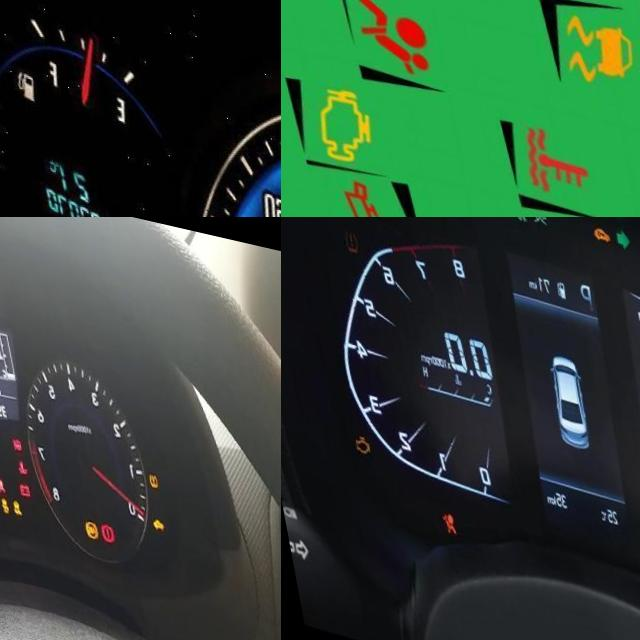Electronic Power Steering: (2, 422, 13, 438)
High Engine Coolant Temperature: (6, 445, 18, 462)
